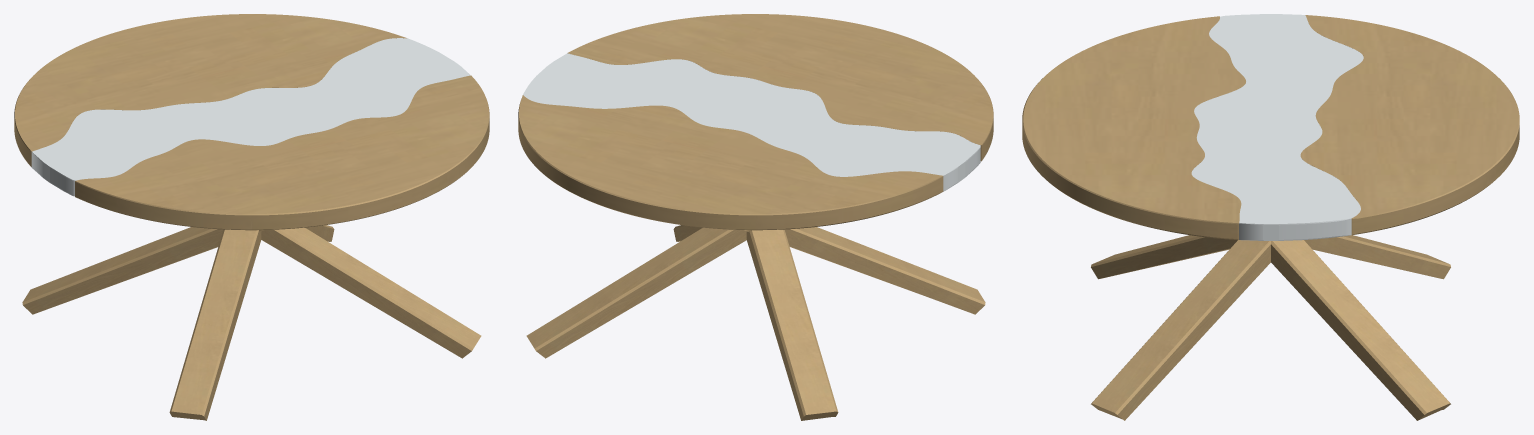
The model's file is round-beech-epoxy-clear.glb.
3 renders of one model, left to right at view 1: azimuth 30°, elevation 25°; view 2: azimuth 150°, elevation 25°; view 3: azimuth 270°, elevation 25°, orthographic. The views are drawn at different scales.
Visible parts, largest first — view 1: Wood_Round_EpoxyFar, Wood_Round_EpoxyNear, Resin_Round, Base_Round; view 2: Wood_Round_EpoxyNear, Wood_Round_EpoxyFar, Resin_Round, Base_Round; view 3: Wood_Round_EpoxyFar, Wood_Round_EpoxyNear, Resin_Round, Base_Round.
Part boxes in pixels (x1,y1,x2,y2): Wood_Round_EpoxyFar: [75, 75, 489, 230]; Wood_Round_EpoxyNear: [14, 14, 406, 166]; Resin_Round: [31, 38, 470, 196]; Base_Round: [22, 225, 481, 420]; Wood_Round_EpoxyNear: [518, 95, 943, 230]; Wood_Round_EpoxyFar: [567, 14, 993, 161]; Resin_Round: [523, 53, 980, 191]; Base_Round: [526, 225, 985, 420]; Wood_Round_EpoxyFar: [1022, 16, 1245, 239]; Wood_Round_EpoxyNear: [1300, 15, 1519, 235]; Resin_Round: [1191, 14, 1363, 240]; Base_Round: [1091, 235, 1450, 420].
Bounding box in the file's own units: 1.52 × 0.762 × 1.52.
2 materials, 1 textured.
